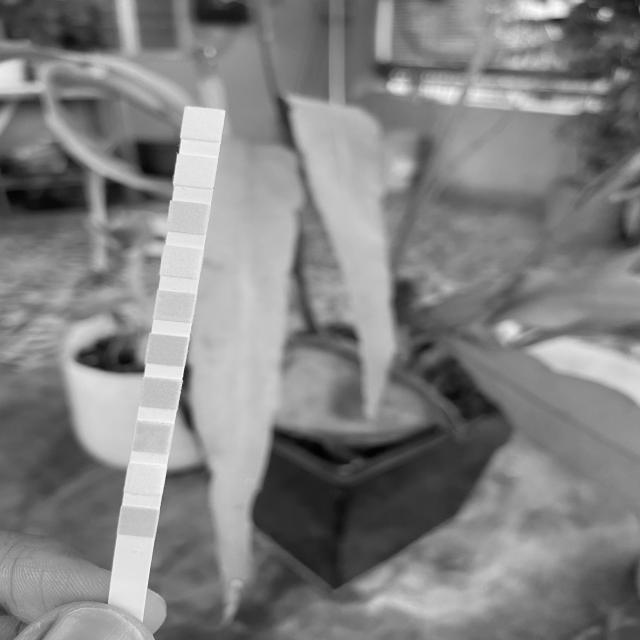Bilirubin: (128, 467, 163, 493)
Blood: (149, 338, 185, 363)
Glucose: (122, 509, 156, 535)
Ketone: (135, 424, 170, 451)
Leukocytes: (184, 110, 222, 138)
Nitrite: (177, 159, 214, 186)
Protein: (163, 249, 200, 275)
SpGravity: (142, 380, 178, 407)
Urobilinogen: (170, 204, 207, 231)
background: (0, 0, 640, 640)
pH: (157, 294, 193, 320)
strip: (112, 107, 225, 572)
